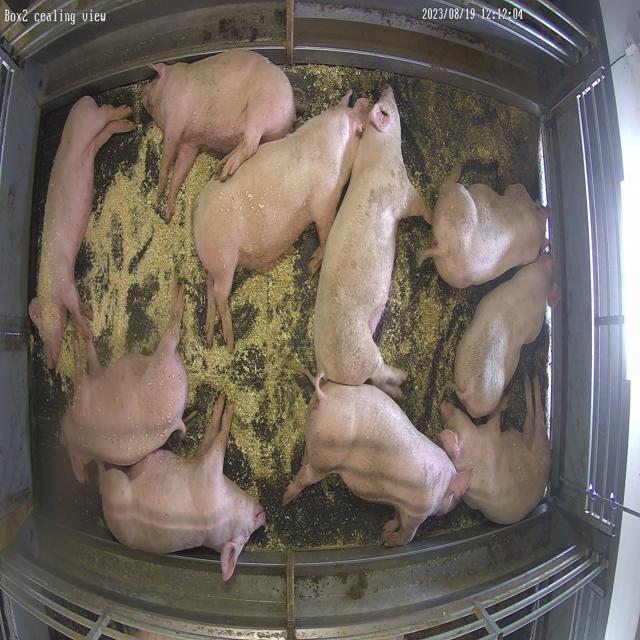Pig: (193, 93, 369, 350), (314, 86, 433, 400), (283, 375, 471, 547), (98, 396, 266, 582), (28, 96, 134, 368), (143, 49, 296, 222), (61, 286, 188, 484), (455, 255, 558, 418), (419, 169, 549, 288)
